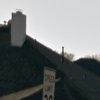Chimney: (4, 8, 35, 53)
